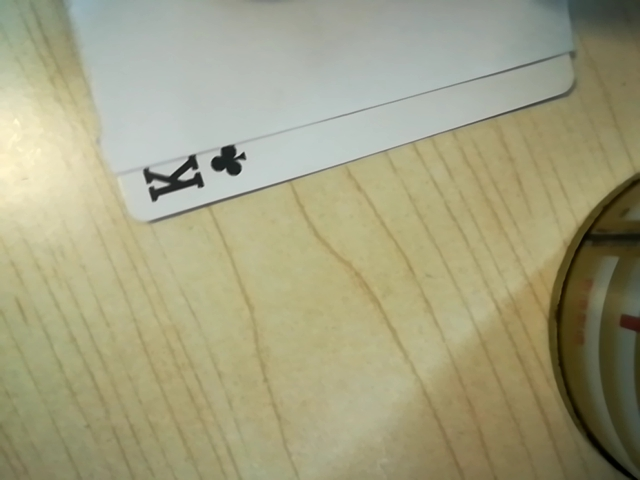mh k: (131, 138, 256, 211)
